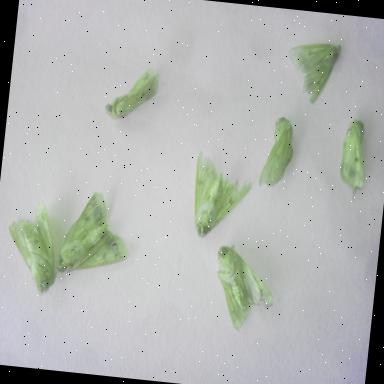abw: (52, 183, 138, 284), (206, 241, 282, 337), (184, 146, 256, 246), (0, 193, 65, 297), (280, 34, 345, 110), (253, 109, 302, 194), (101, 59, 162, 127), (333, 115, 374, 206)
